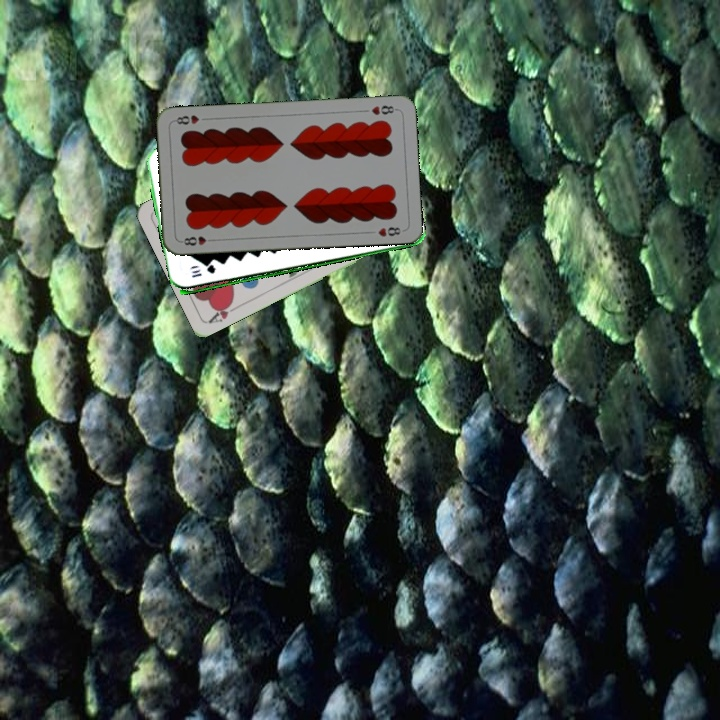G10: (188, 263, 219, 280)
H8: (177, 232, 218, 248), (367, 101, 399, 118)
HA: (205, 297, 243, 326)
